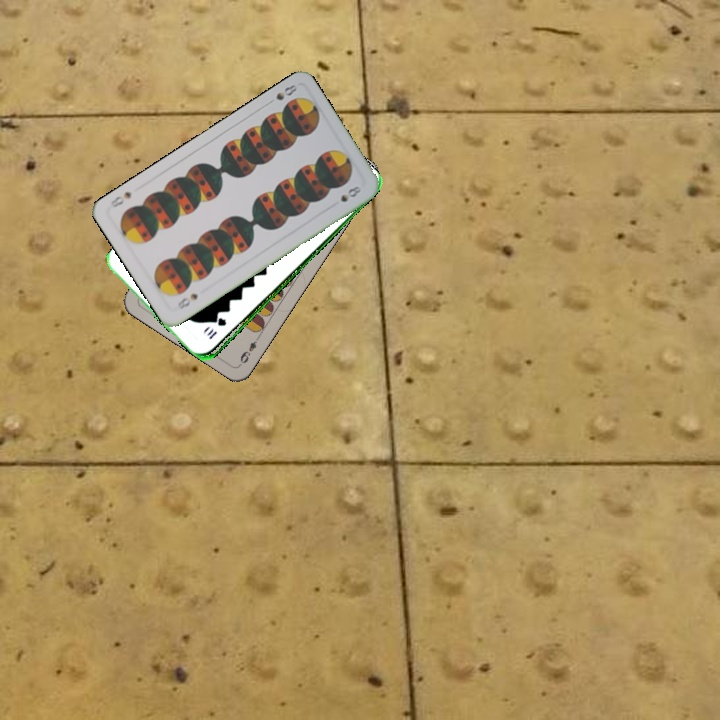E9: (236, 331, 263, 366)
G10: (205, 315, 229, 342)
S8: (263, 80, 300, 108), (172, 289, 200, 312)
